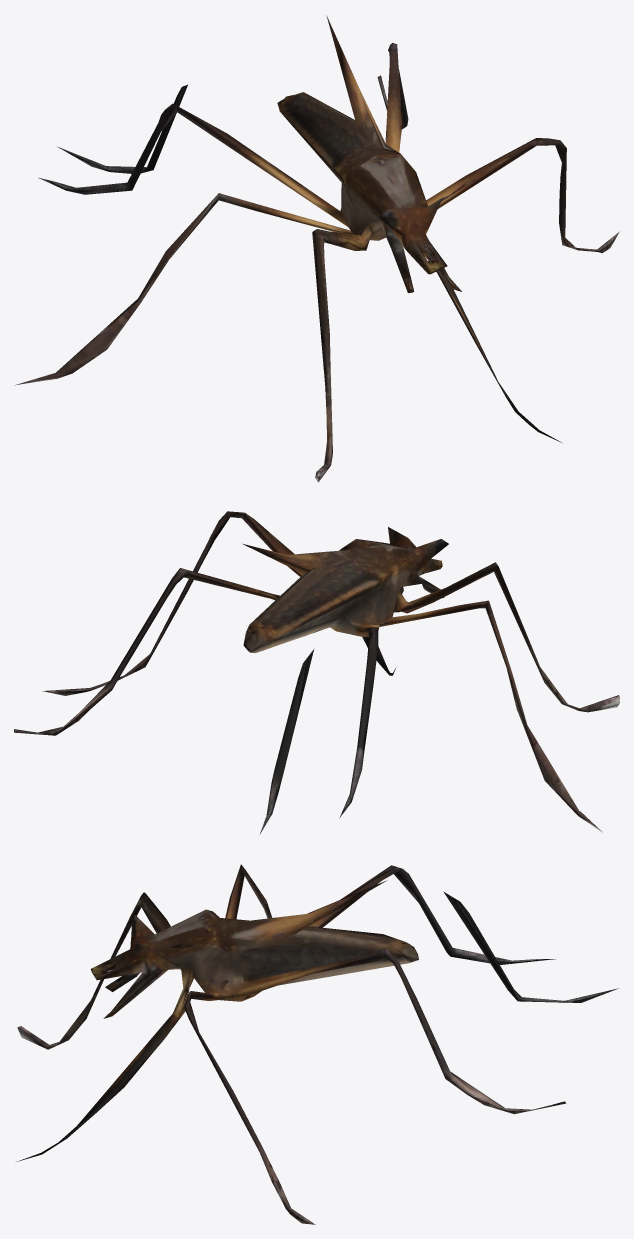
The model's file is water-strider_lo.glb.
3 renders of one model, top to bottom at view 1: azimuth 30°, elevation 25°; view 2: azimuth 150°, elevation 25°; view 3: azimuth 270°, elevation 25°, orthographic. The views are drawn at different scales.
Visible parts, largest first — view 1: geometry_0; view 2: geometry_0; view 3: geometry_0.
Part boxes in pixels (box(x1,y1,x2,y2)): geometry_0: box(15, 15, 619, 482); geometry_0: box(14, 511, 619, 833); geometry_0: box(16, 864, 618, 1224).
Bounding box in the file's own units: 0.9971 × 0.4553 × 0.9361.
Materials: 1 (1 with a texture image).
